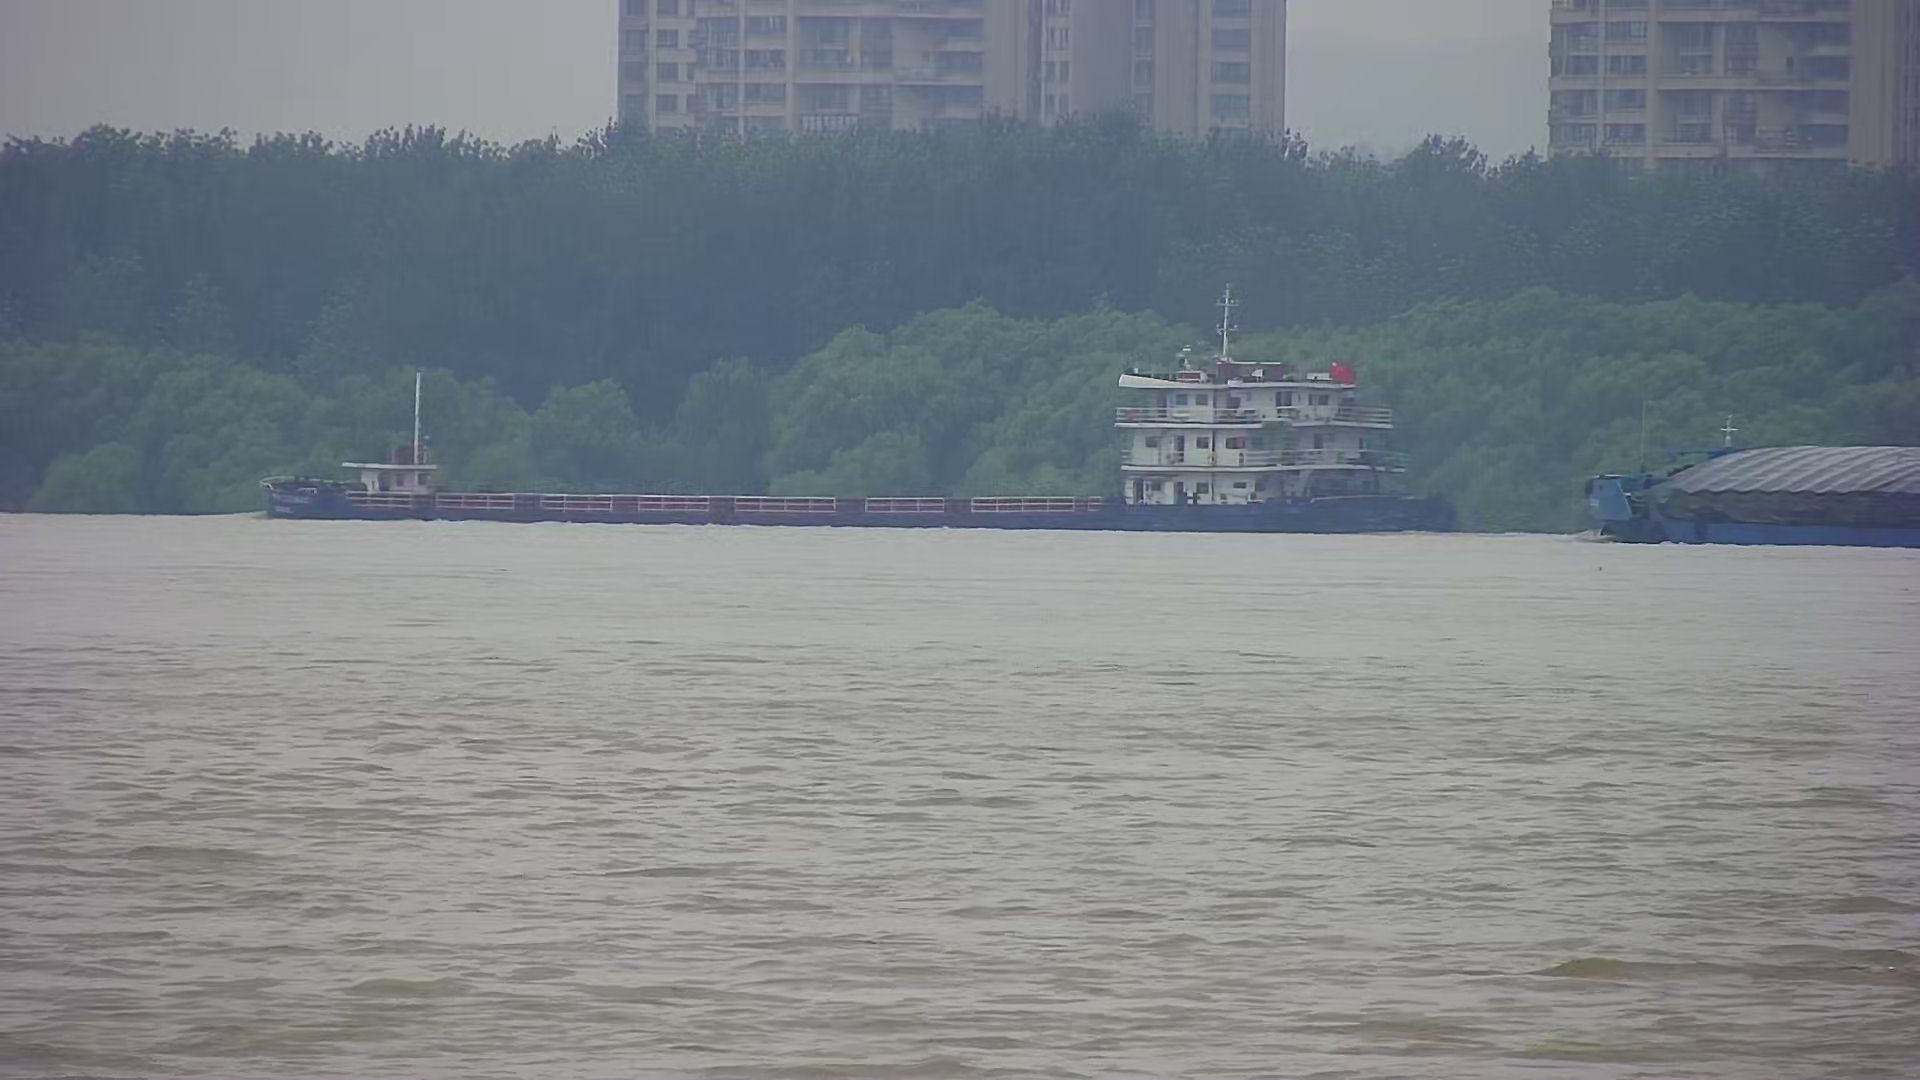ship: (253, 330, 1461, 541), (1580, 394, 1920, 555)
